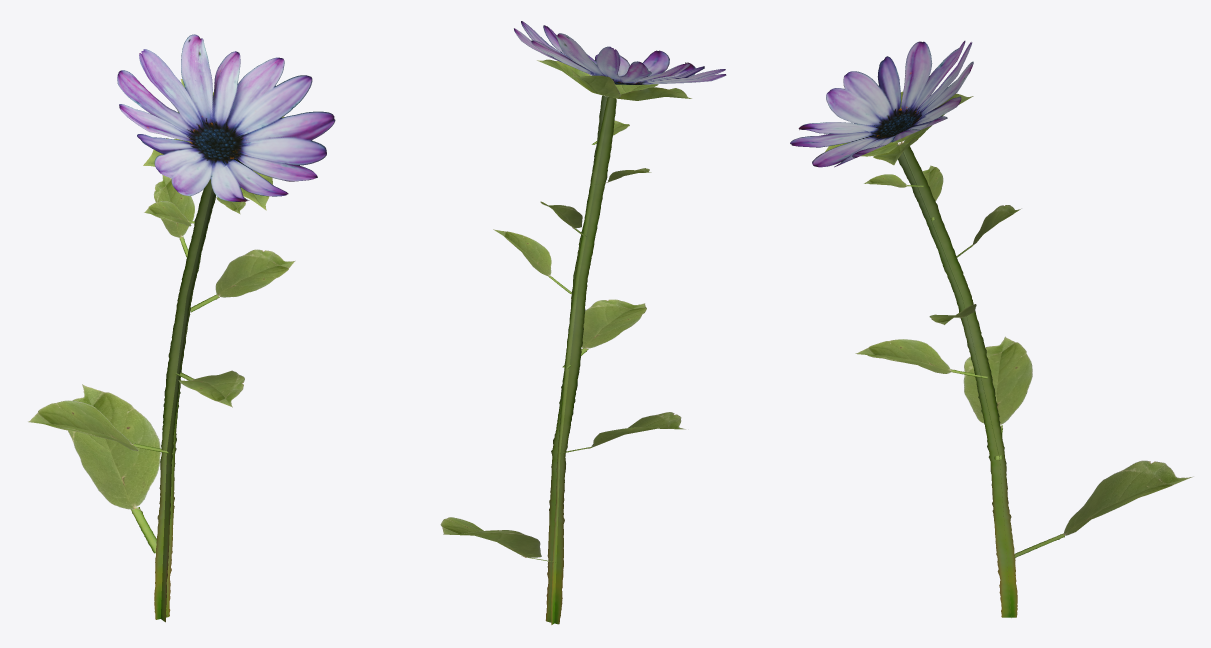
Rendered from VioletFlower_1.fbx.
The picture shows the model from 3 angles, left to right: view 1: azimuth 30°, elevation 25°; view 2: azimuth 150°, elevation 25°; view 3: azimuth 270°, elevation 25°; orthographic projection. The views are drawn at different scales.
Visible parts, largest first — view 1: VioletFlower_1; view 2: VioletFlower_1; view 3: VioletFlower_1.
Part boxes in pixels (left/top/right/bottom): VioletFlower_1: left=28, top=34, right=335, bottom=622; VioletFlower_1: left=440, top=21, right=726, bottom=624; VioletFlower_1: left=790, top=41, right=1193, bottom=617.
Bounding box in the file's own units: 0.1306 × 0.308 × 0.2037.
